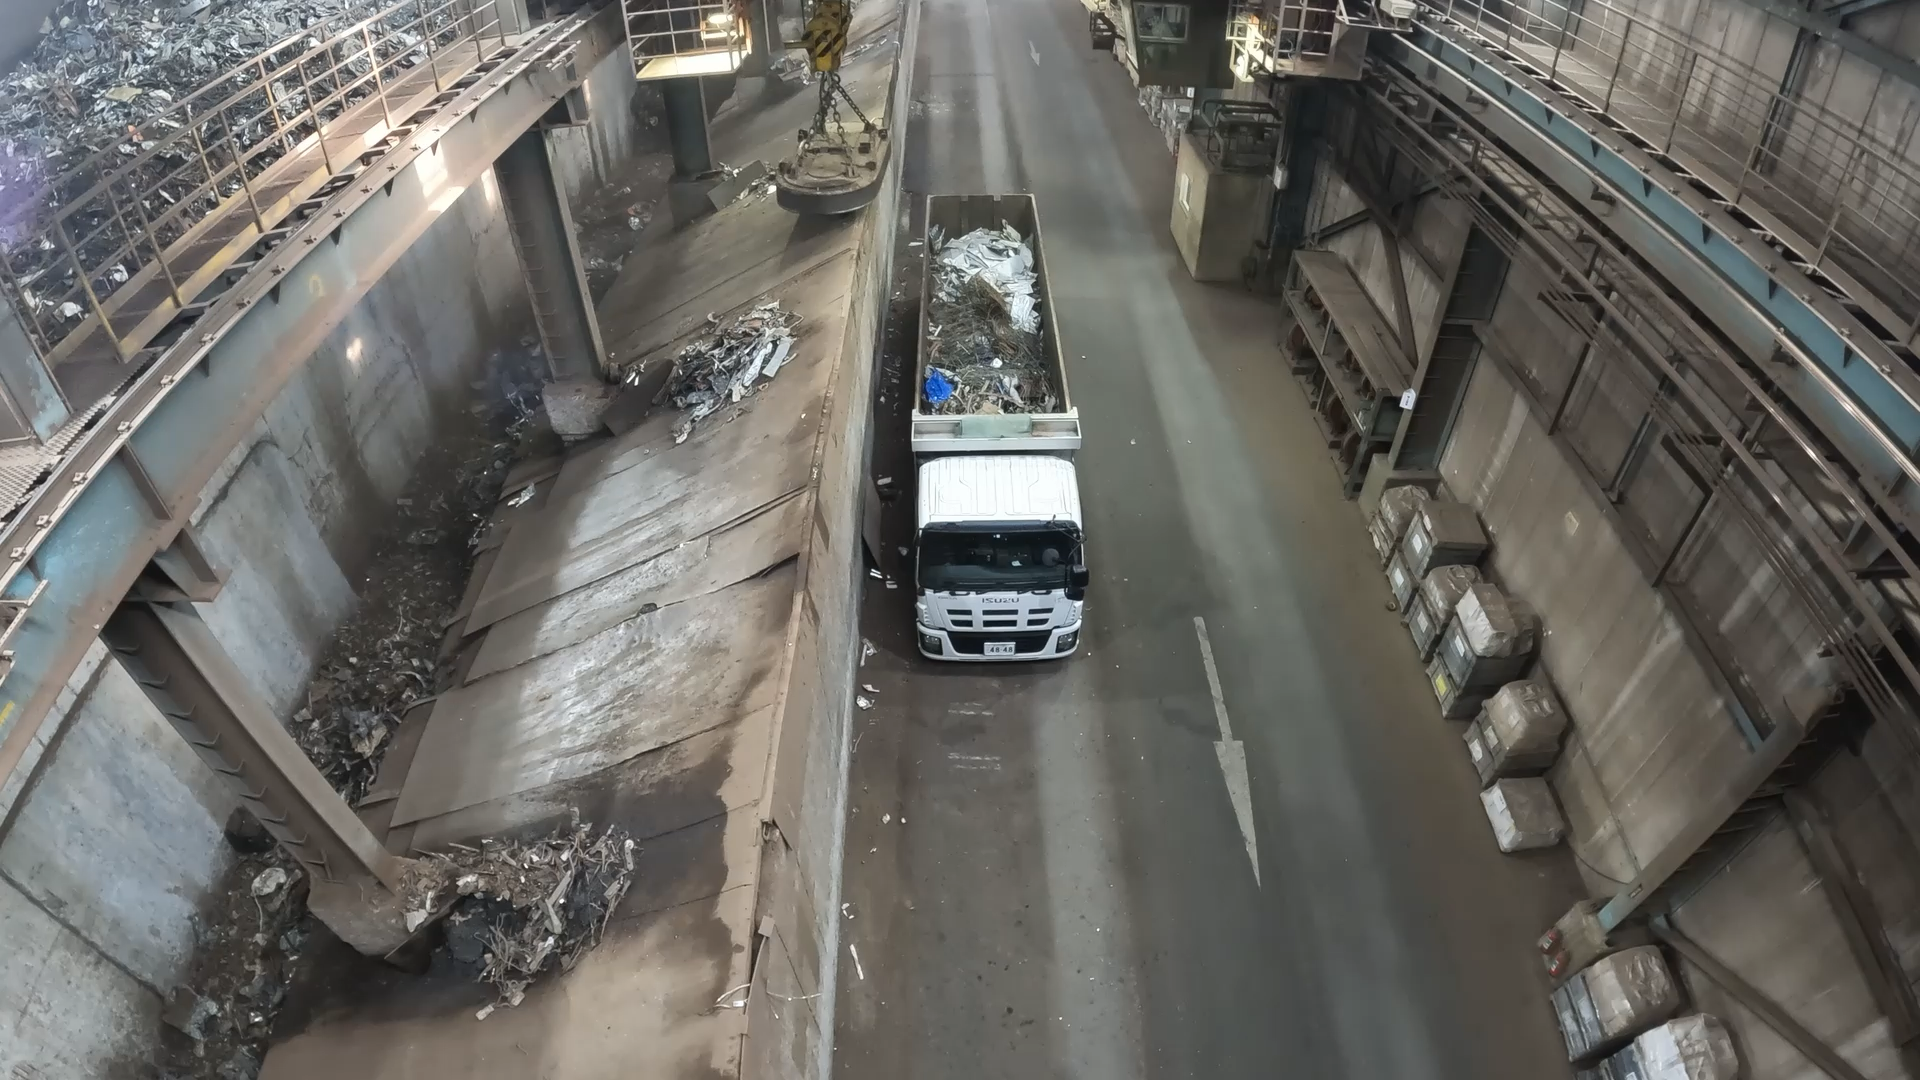truck: (916, 194, 1069, 417)
